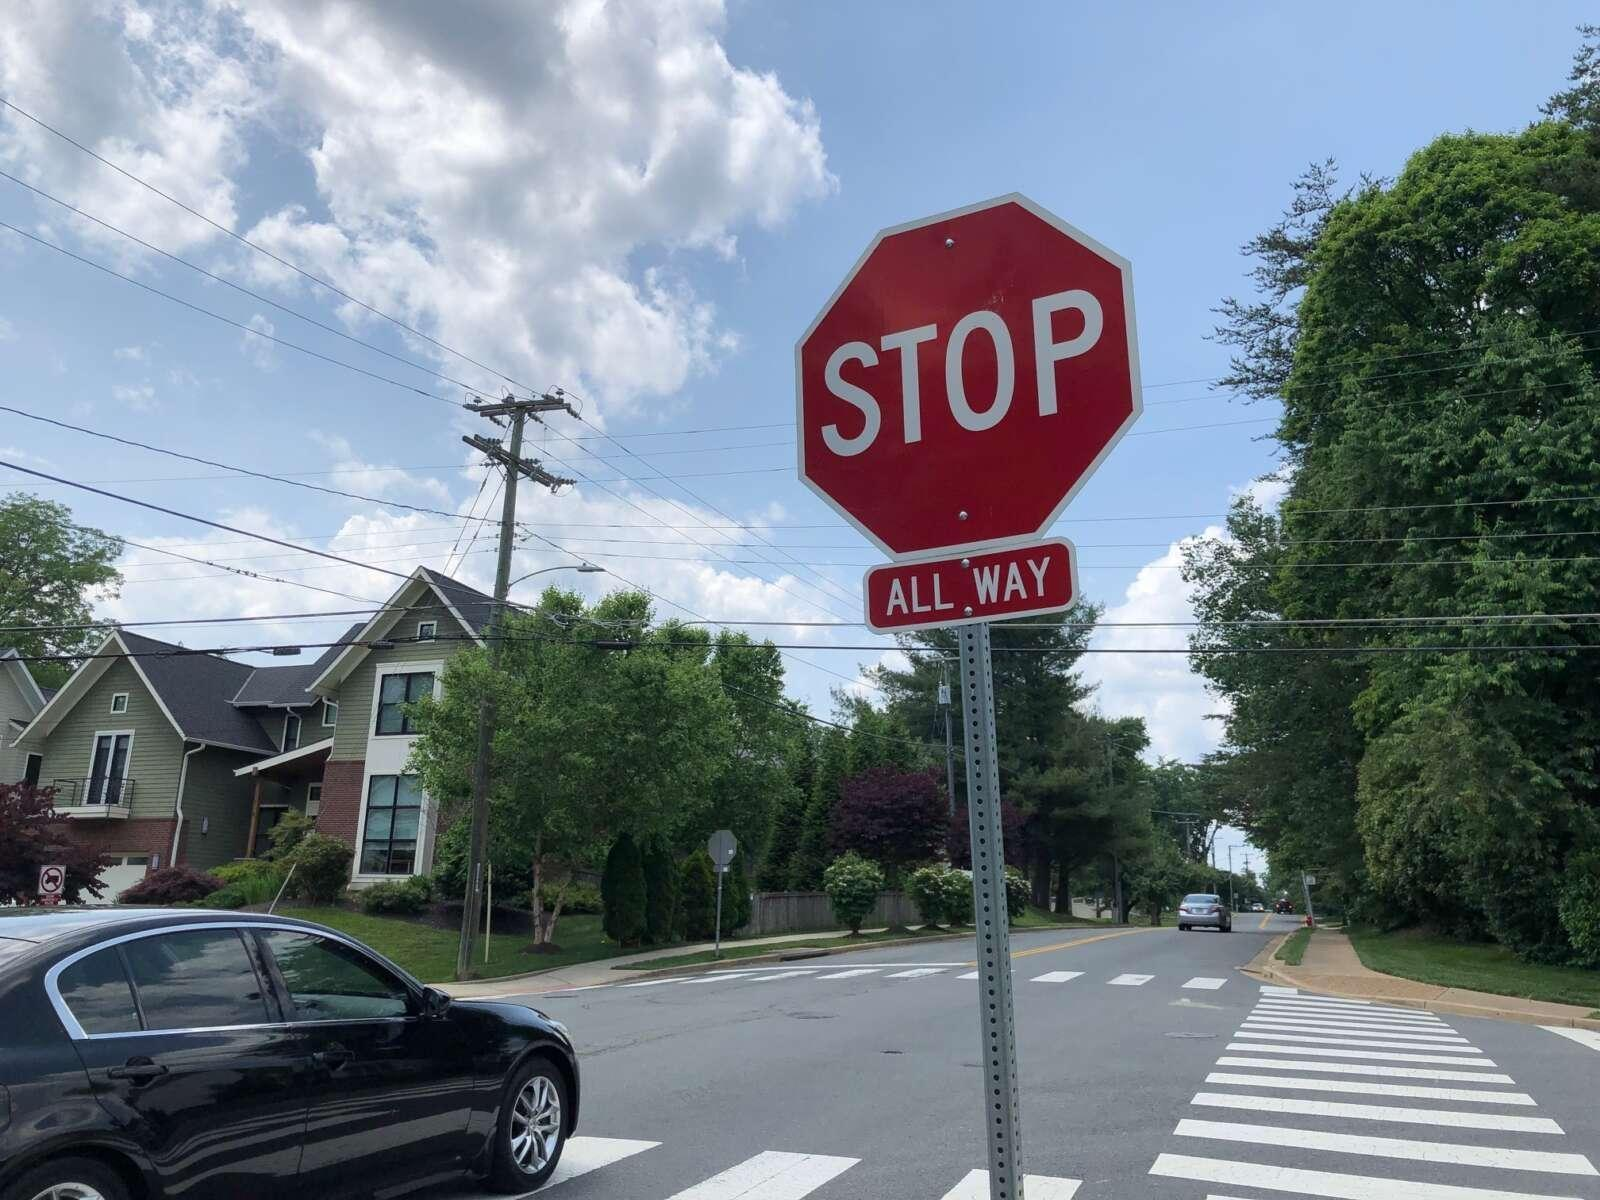Stop-Sign: (774, 184, 1148, 561)
